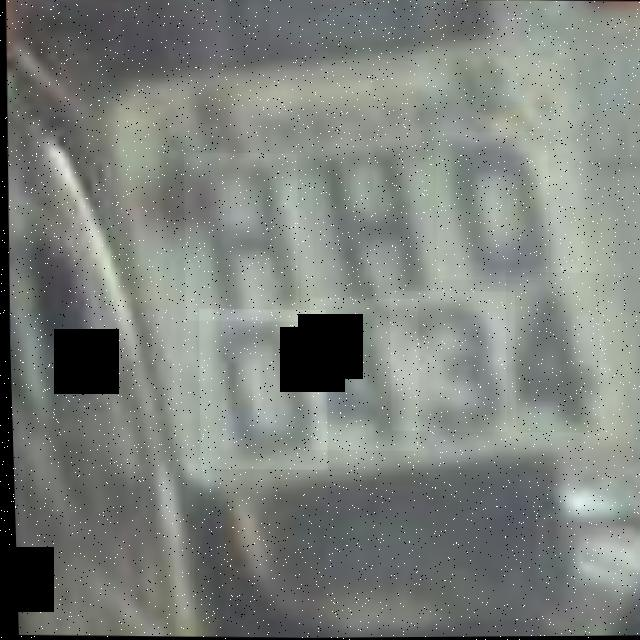0: (193, 309, 327, 471)
3: (385, 291, 515, 433)
4: (304, 297, 419, 452), (500, 272, 600, 435)
B: (309, 130, 431, 300)
H: (180, 152, 300, 322)
O: (432, 131, 550, 282)
